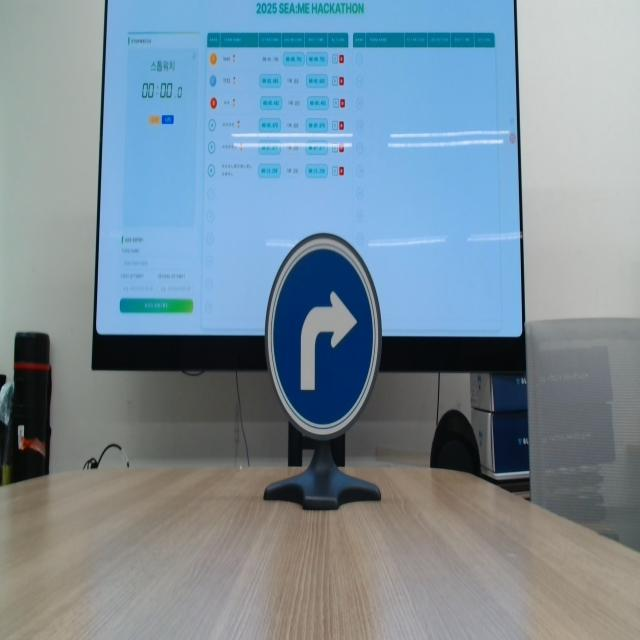right_dierection: (255, 230, 386, 442)
